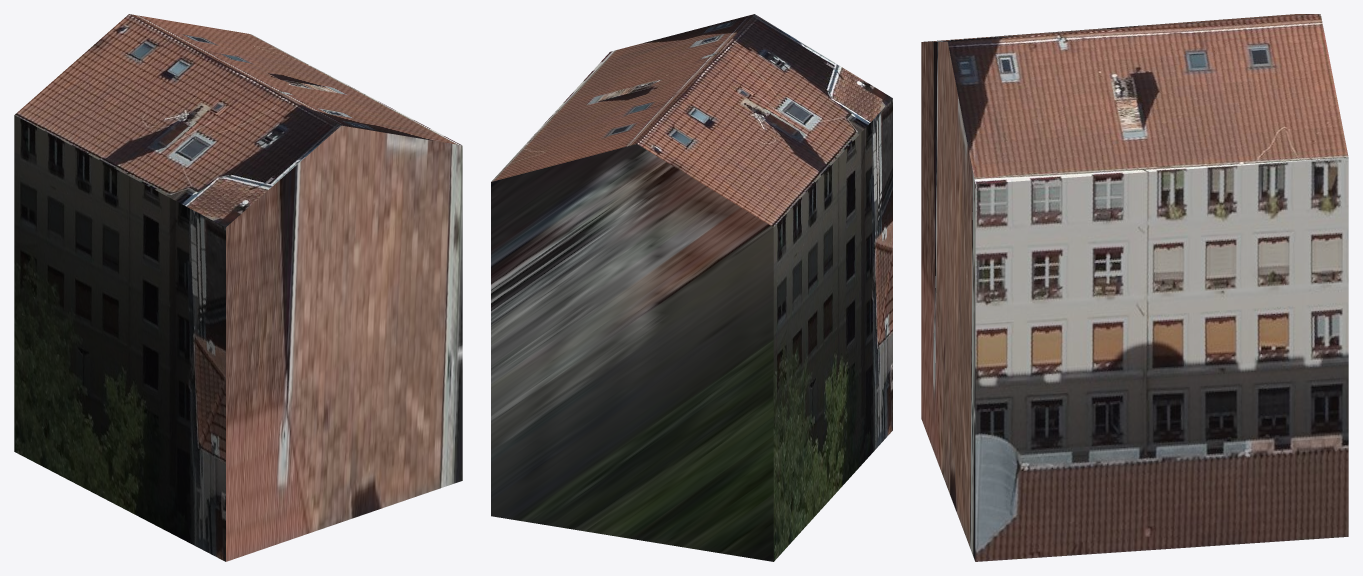
The picture shows the model from 3 angles, left to right: view 1: azimuth 30°, elevation 25°; view 2: azimuth 150°, elevation 25°; view 3: azimuth 270°, elevation 25°; orthographic projection. The views are drawn at different scales.
Visible parts, largest first — view 1: Z_UP; view 2: Z_UP; view 3: Z_UP.
Part boxes in pixels (<box>): Z_UP: <box>14,14,462,561</box>; Z_UP: <box>491,14,892,561</box>; Z_UP: <box>921,14,1348,561</box>.
Bounding box in the file's own units: 16.27 × 20.22 × 17.44.
2 materials, 1 textured.
